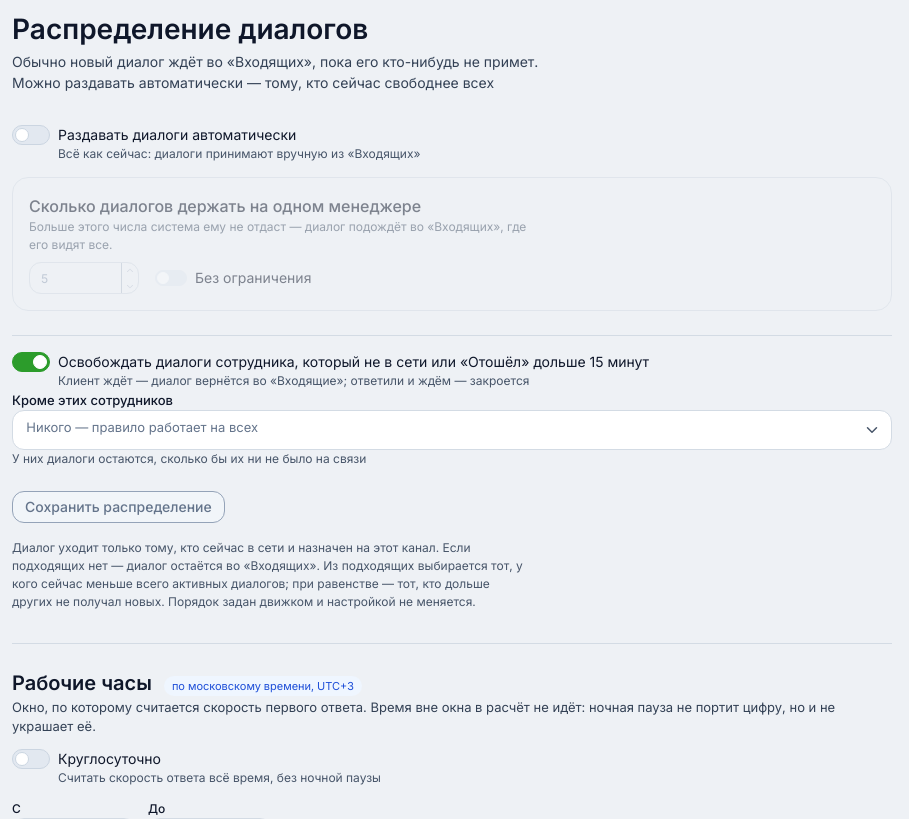
Test: Распределение: окно формой, пояс, предмет правки › строка «не сохранено» называет предмет числами: предел 6 вместо 5
This screenshot has width=909, height=819.
Click the switch labelled "Раздавать диалоги автоматически" at (216, 143), box [12,125,420,161]
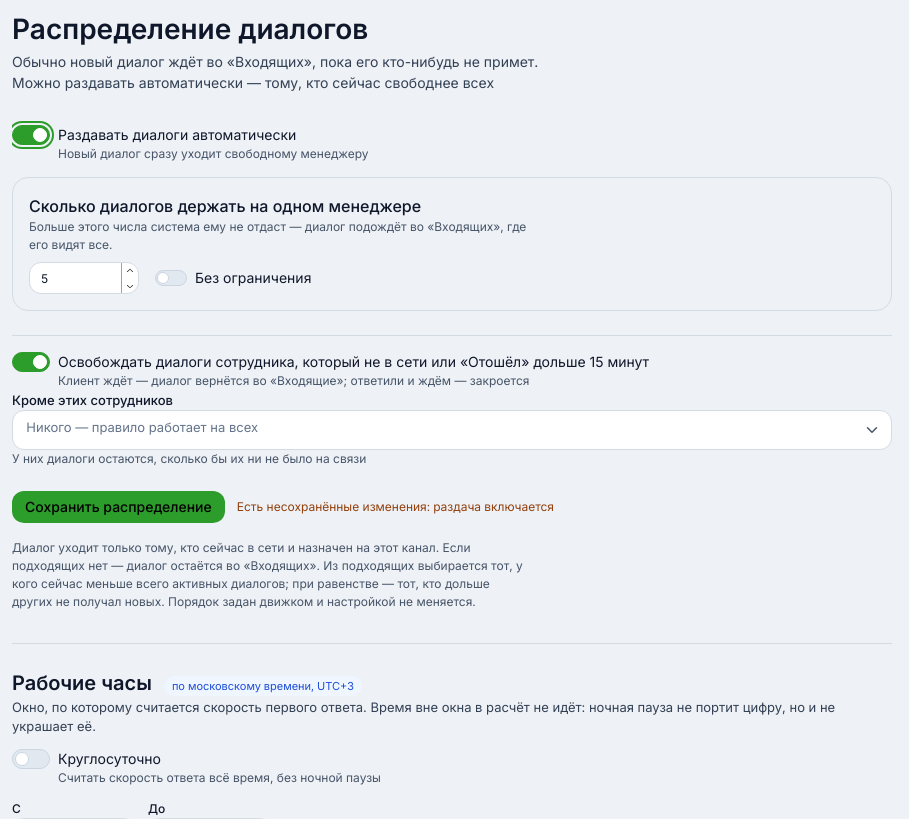
Replace the text in the field labelled "Сколько диалогов держать на одном менеджере" with "6" at (84, 278), box [29,262,139,294]
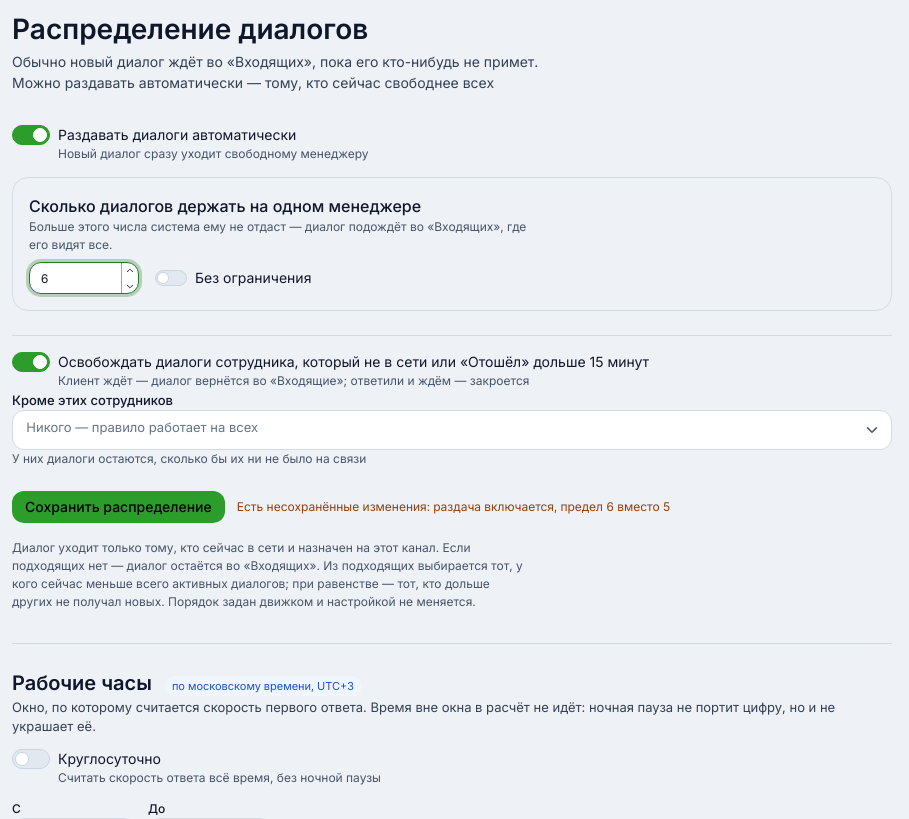
Now the text ": раздача включается, предел 6 вместо 5" is shown, box [427,499,671,514]
